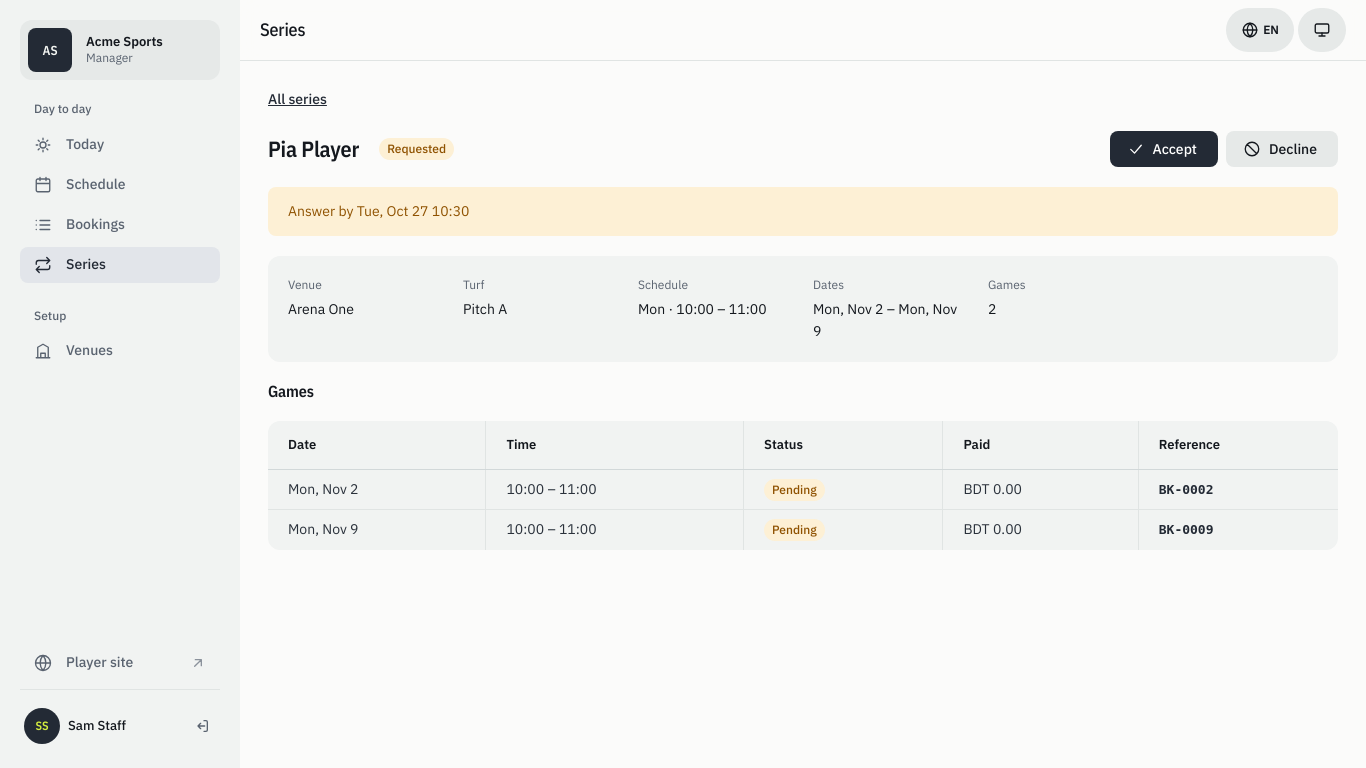
Owner series detail › a series_not_requested conflict shows the error and refreshes
The image size is (1366, 768).
Click the button "Accept". click: (1164, 149)
box: [1110,131,1218,167]
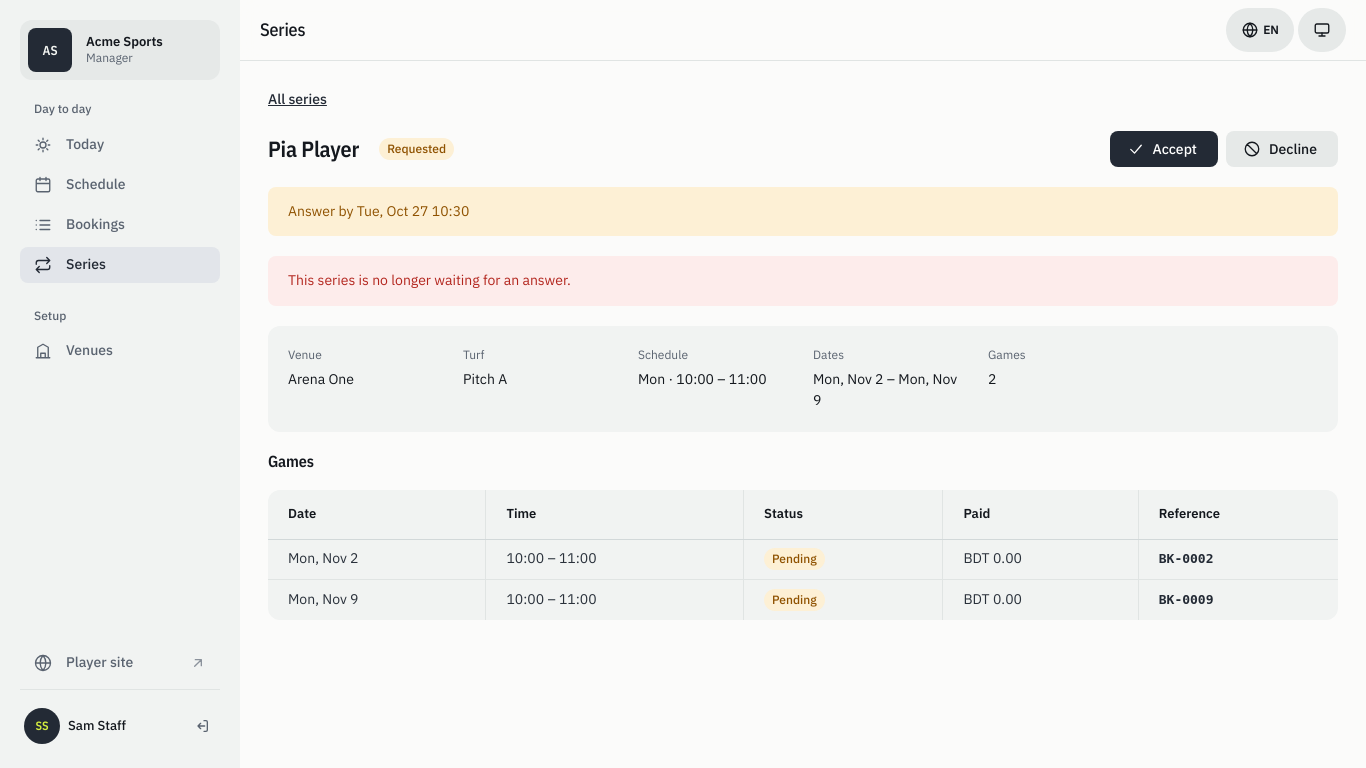
Expected: the text "This series is no longer waiting for an answer." is shown, [268,256,1338,306]
